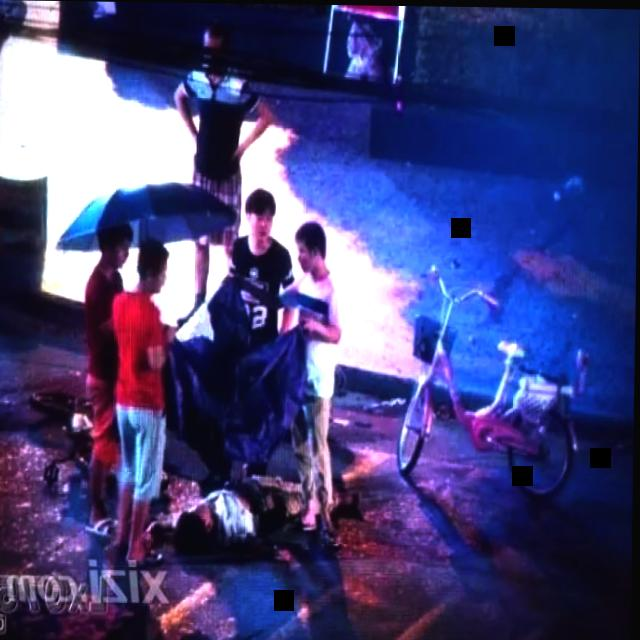Fall-Detected: (159, 463, 292, 565)
